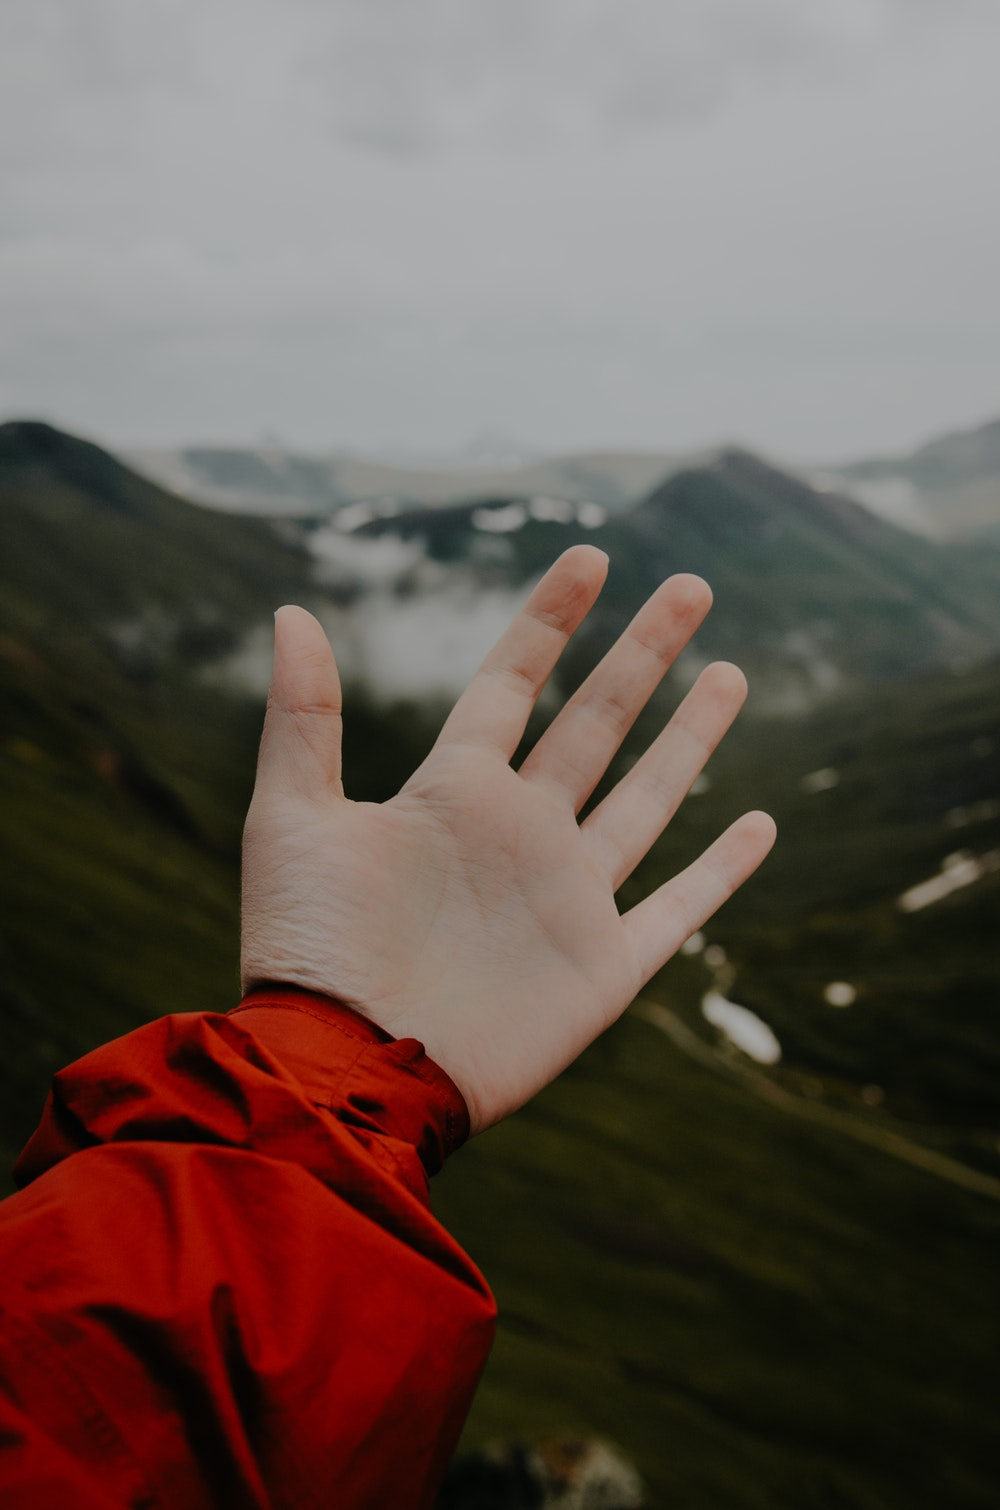palm: (282, 761, 644, 1051)
